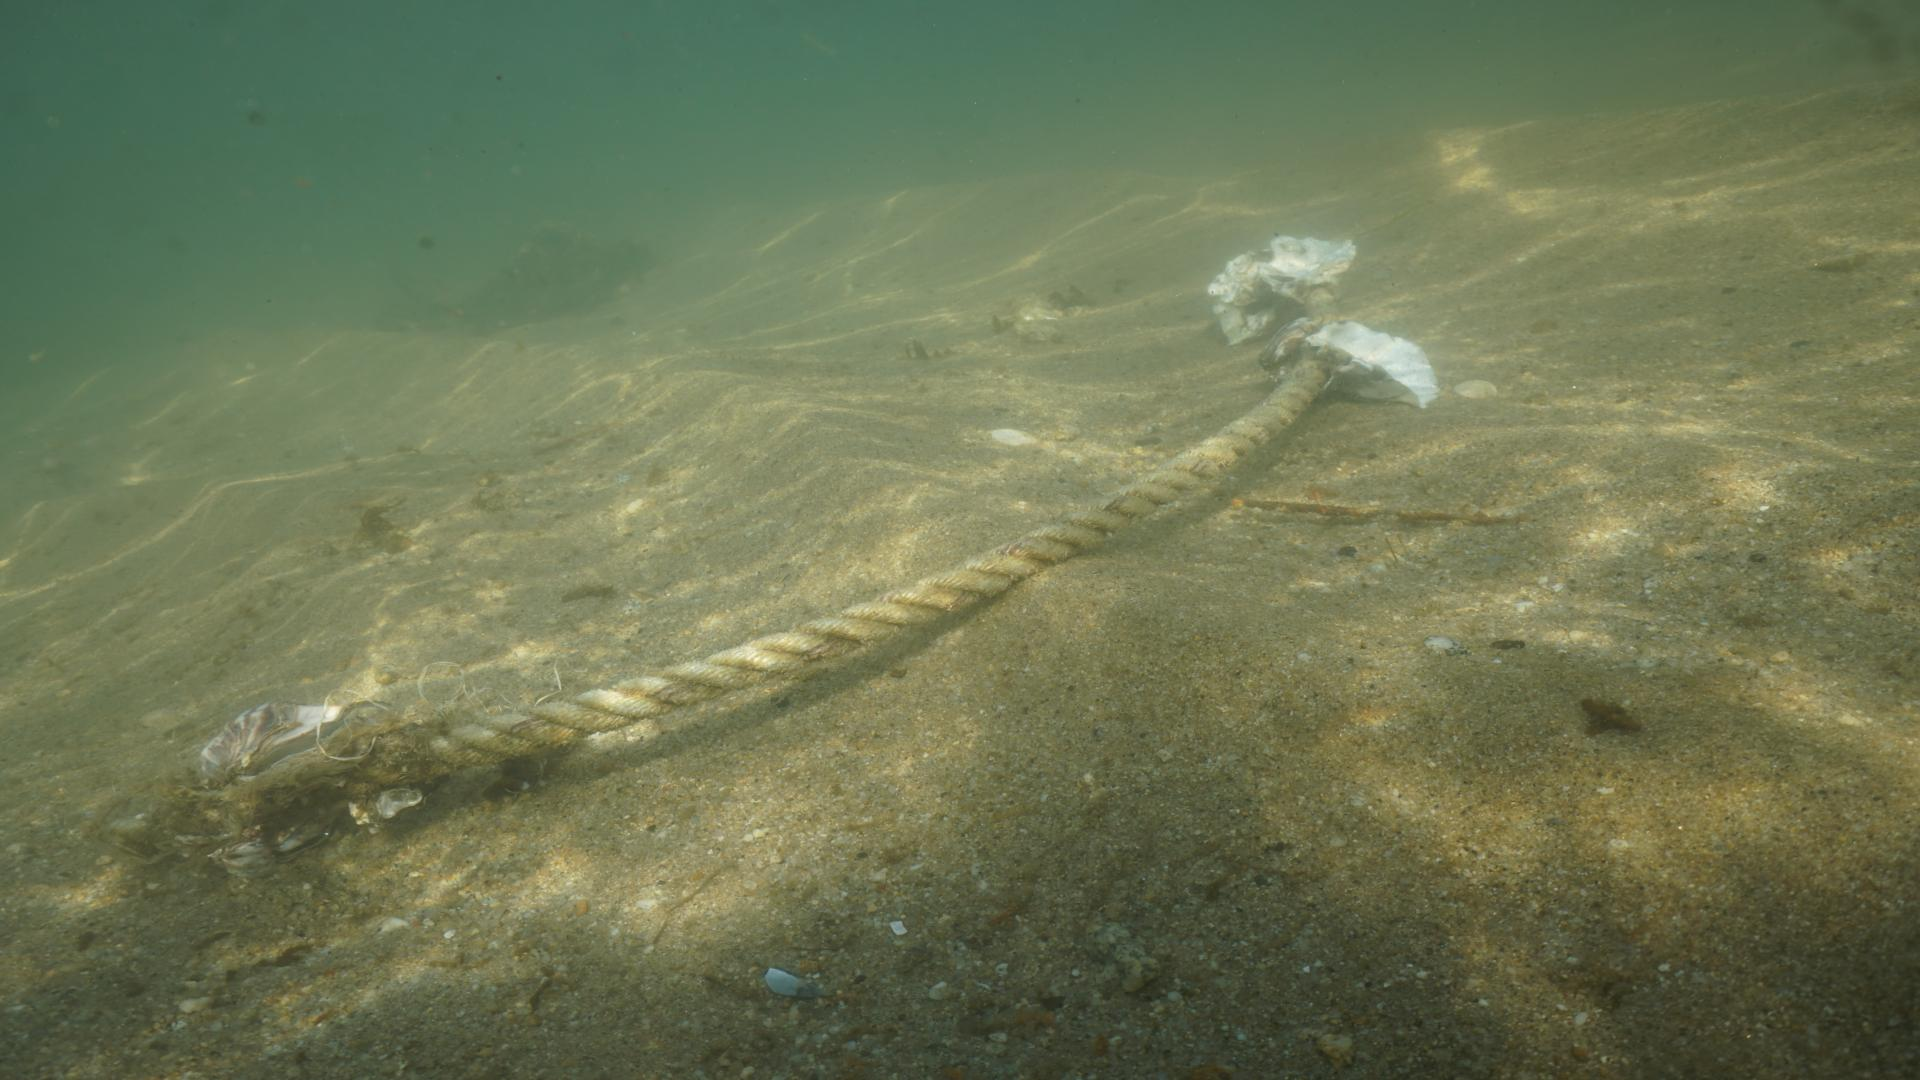rope: (229, 348, 1331, 811)
